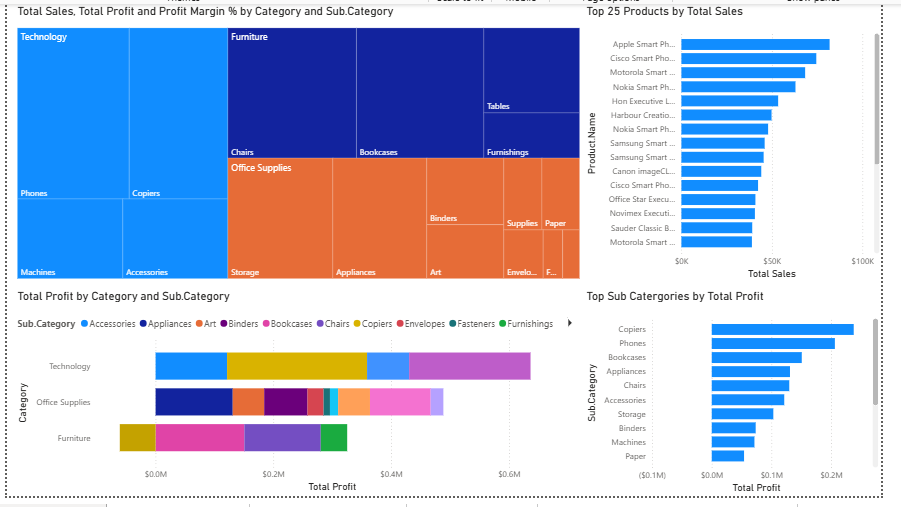

The dashboard page shown, as its layout file describes it:
{"tool":"powerbi","page":{"name":"Product Analysis","canvas":[1280,720],"ordinal":2},"visuals":[{"type":"treemap","fields":{"Group":["Dim_Product.Category"],"Values":["_Measures.Total Sales"],"Details":["Dim_Product.Sub.Category"]},"box":[10.2,0,832.7,406.8],"z":0},{"type":"barChart","fields":{"Category":["Dim_Product.Category"],"Y":["_Measures.Total Profit"],"Series":["Dim_Product.Sub.Category"]},"box":[10.2,417.1,832.7,302.9],"z":1000},{"type":"barChart","title":"Top 25 Products by Total Sales","fields":{"Category":["Dim_Product.Product.Name"],"Y":["_Measures.Total Sales"]},"box":[842.9,0,439,406.8],"z":2000},{"type":"clusteredBarChart","title":"Top Sub Catergories by Total Profit","fields":{"Y":["_Measures.Total Profit"],"Category":["Dim_Product.Sub.Category"]},"box":[843,417,437,303],"z":3000}]}

Visuals, with their boxes in screenshot pixels (x1, y1, x2, y2), scaled from the page's 1280x720 canvas onto the 901x507 screenshot:
treemap - Dim_Product.Category x _Measures.Total Sales: {"x1": 7, "y1": 0, "x2": 593, "y2": 286}
barChart - Dim_Product.Category x _Measures.Total Profit: {"x1": 7, "y1": 294, "x2": 593, "y2": 506}
"Top 25 Products by Total Sales" barChart: {"x1": 593, "y1": 0, "x2": 900, "y2": 286}
"Top Sub Catergories by Total Profit" clusteredBarChart: {"x1": 593, "y1": 294, "x2": 900, "y2": 506}
